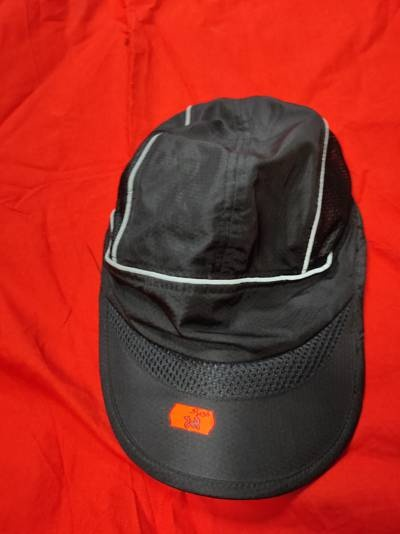Hat: (79, 65, 370, 492)
